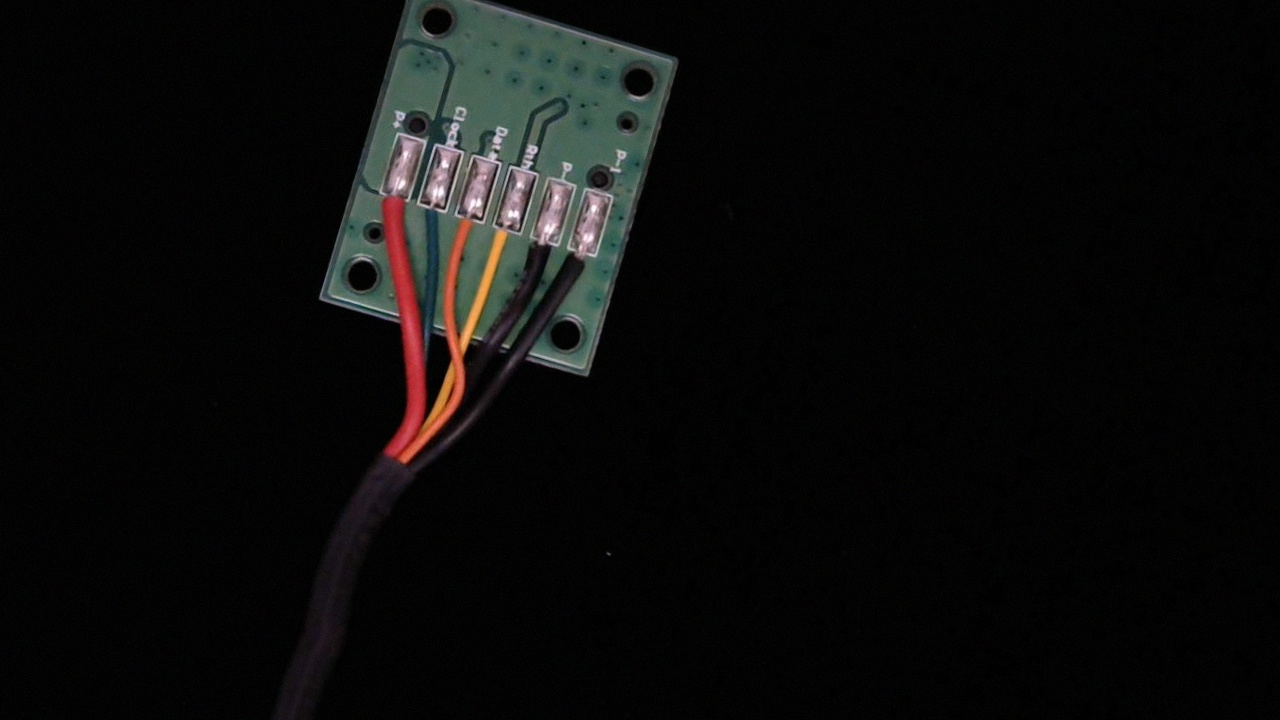Black: (509, 222, 564, 302)
Black1: (551, 233, 602, 307)
Green: (405, 186, 454, 254)
Orange: (437, 197, 489, 275)
Red: (366, 173, 418, 246)
Yellow: (473, 210, 528, 290)
